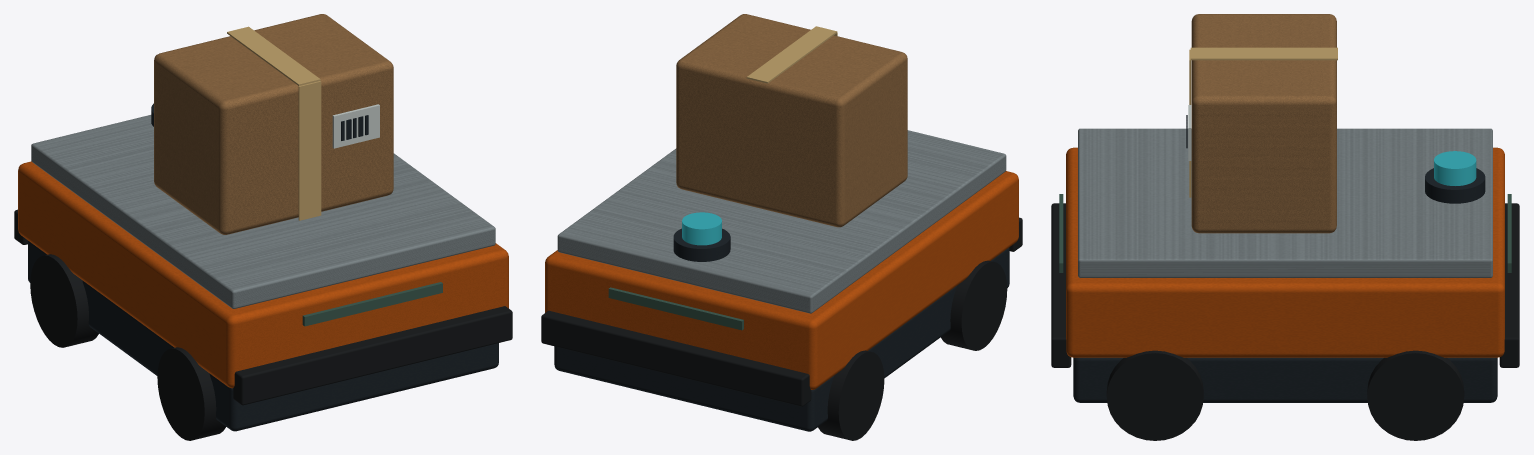
Rendered from agv.ec2762aecc7f.glb.
3 views of the same model, side by side, from view 1: azimuth 30°, elevation 25°; view 2: azimuth 150°, elevation 25°; view 3: azimuth 270°, elevation 25° (orthographic). The views are drawn at different scales.
Parts seen in each view (by area): view 1: corrugated_cardboard_0015, deck_0003, chassis_0002, underbody_0001, bumper_0010, wheel_0005, wheel_0004, packing_tape_front_0017, packing_tape_top_0016, status_strip_0011, identification_plate_0018; view 2: corrugated_cardboard_0015, deck_0003, chassis_0002, underbody_0001, bumper_0008, wheel_0004, wheel_0005, packing_tape_top_0016, status_strip_0009, lidar_sensor_0013, lidar_base_0012; view 3: deck_0003, chassis_0002, corrugated_cardboard_0015, underbody_0001, wheel_0006, wheel_0007, bumper_0008, bumper_0010, packing_tape_top_0016, lidar_sensor_0013, lidar_base_0012.
Part boxes in pixels (x1=…): corrugated_cardboard_0015: x1=154, y1=14, x2=393, y2=234; deck_0003: x1=31, y1=115, x2=495, y2=308; chassis_0002: x1=18, y1=161, x2=508, y2=388; underbody_0001: x1=28, y1=240, x2=498, y2=431; bumper_0010: x1=233, y1=306, x2=512, y2=405; wheel_0005: x1=157, y1=347, x2=225, y2=440; wheel_0004: x1=30, y1=254, x2=98, y2=347; packing_tape_front_0017: x1=298, y1=81, x2=321, y2=220; packing_tape_top_0016: x1=227, y1=26, x2=320, y2=85; status_strip_0011: x1=302, y1=282, x2=442, y2=326; identification_plate_0018: x1=332, y1=104, x2=379, y2=148; corrugated_cardboard_0015: x1=676, y1=14, x2=907, y2=227; deck_0003: x1=557, y1=130, x2=1006, y2=313; chassis_0002: x1=545, y1=171, x2=1018, y2=389; underbody_0001: x1=554, y1=247, x2=1009, y2=431; bumper_0008: x1=541, y1=310, x2=811, y2=406; wheel_0004: x1=818, y1=350, x2=884, y2=440; wheel_0005: x1=941, y1=260, x2=1007, y2=350; packing_tape_top_0016: x1=746, y1=26, x2=837, y2=83; status_strip_0009: x1=608, y1=287, x2=743, y2=330; lidar_sensor_0013: x1=682, y1=212, x2=721, y2=245; lidar_base_0012: x1=673, y1=228, x2=730, y2=261; deck_0003: x1=1078, y1=128, x2=1492, y2=277; chassis_0002: x1=1066, y1=147, x2=1504, y2=357; corrugated_cardboard_0015: x1=1191, y1=14, x2=1336, y2=233; underbody_0001: x1=1073, y1=357, x2=1497, y2=402; wheel_0006: x1=1367, y1=350, x2=1464, y2=440; wheel_0007: x1=1106, y1=350, x2=1203, y2=440; bumper_0008: x1=1499, y1=203, x2=1519, y2=367; bumper_0010: x1=1051, y1=203, x2=1071, y2=367; packing_tape_top_0016: x1=1190, y1=47, x2=1337, y2=60; lidar_sensor_0013: x1=1434, y1=151, x2=1476, y2=185; lidar_base_0012: x1=1425, y1=168, x2=1485, y2=203.
Size of the model in its own units: 1.14 by 1.15 by 1.54.
Materials: 9 (4 with a texture image).
